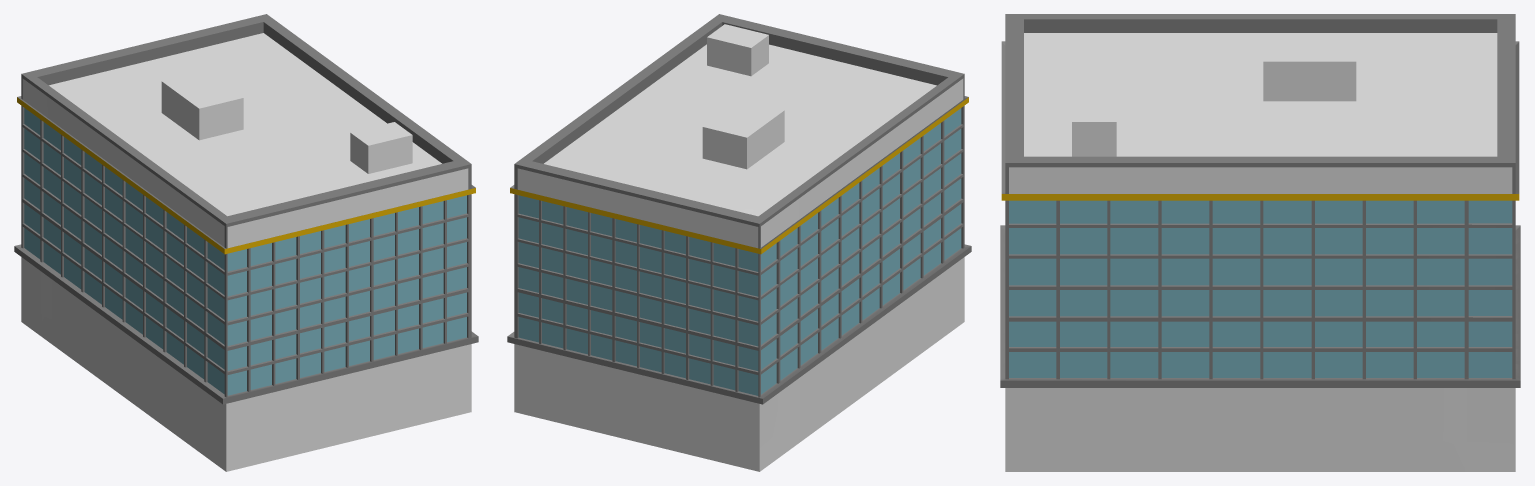
Rendered from MM_house_09_final.fbx.
The picture shows the model from 3 angles, left to right: view 1: azimuth 30°, elevation 25°; view 2: azimuth 150°, elevation 25°; view 3: azimuth 270°, elevation 25°; orthographic projection. The views are drawn at different scales.
Visible parts, largest first — view 1: pCube1; view 2: pCube1; view 3: pCube1.
Part boxes in pixels (x1=…): pCube1: x1=14, y1=14, x2=478, y2=471; pCube1: x1=507, y1=14, x2=971, y2=471; pCube1: x1=1000, y1=14, x2=1520, y2=471.
Bounding box in the file's own units: 17.57 × 17.66 × 24.87.
